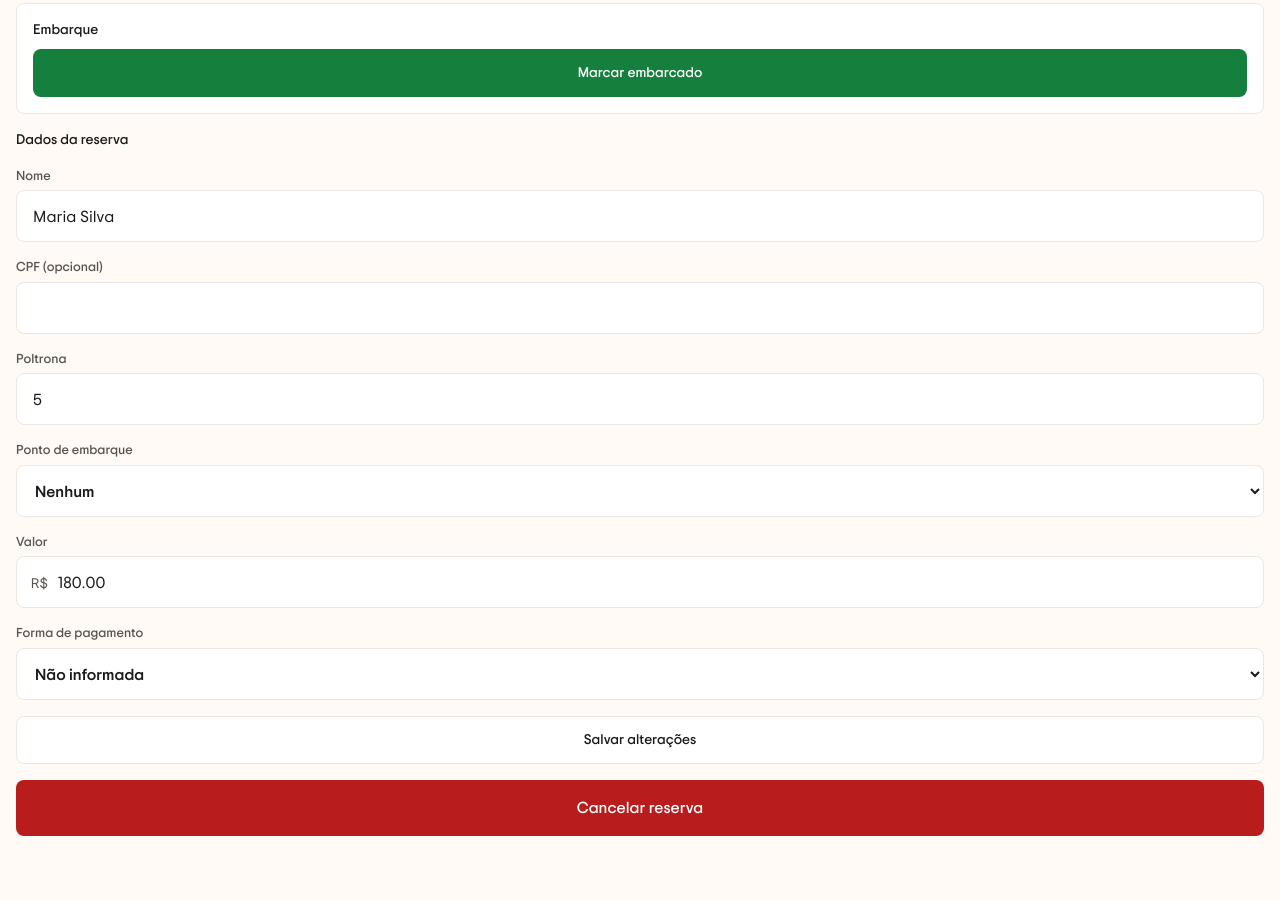
Test: ReservaDetalhePage › cancela reserva pendente sem gerar pendência de estorno
This screenshot has width=1280, height=900.
(page scrolled)
Click the button "Cancelar reserva": [640, 808] box [16, 780, 1264, 836]
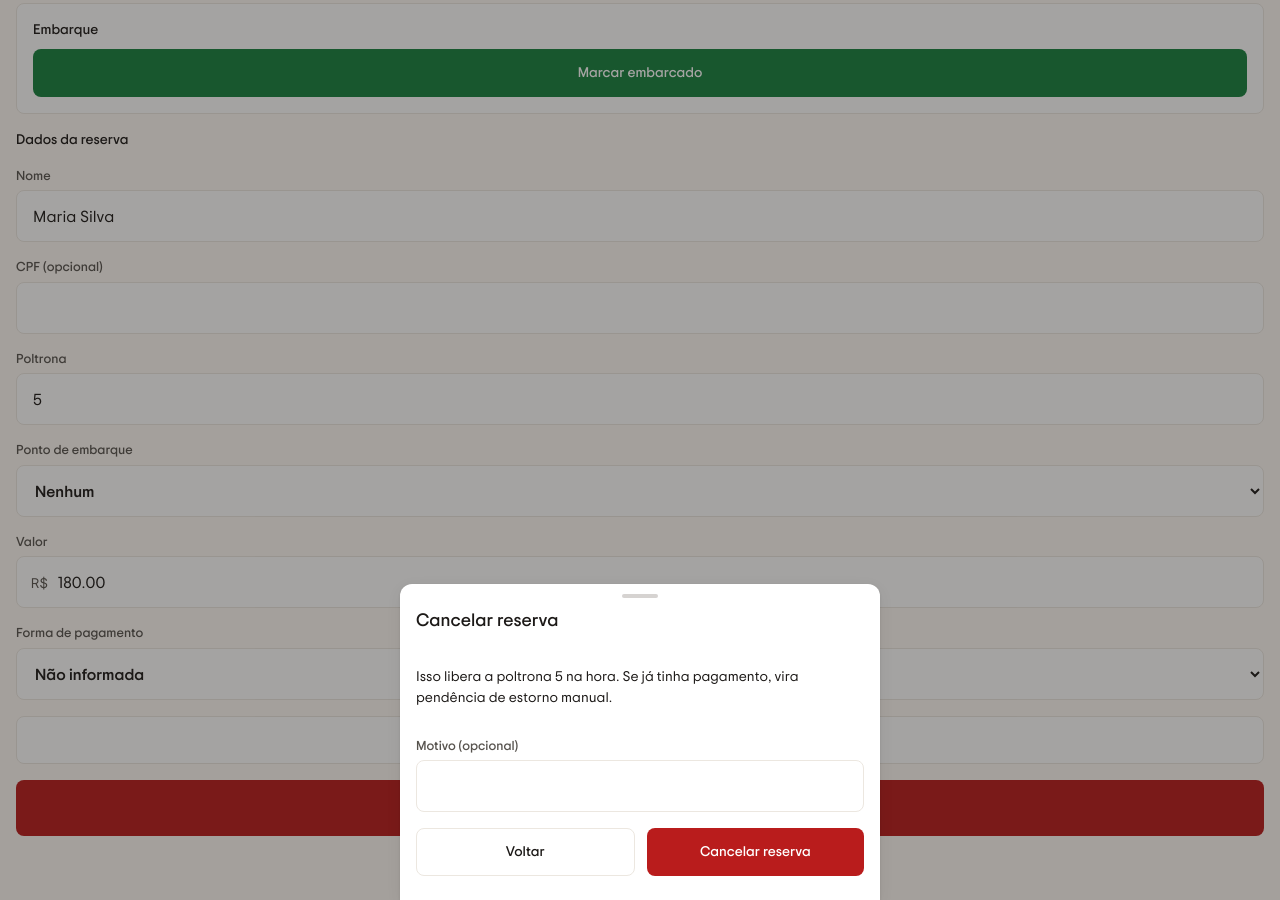
Click the button "Cancelar reserva" below "Motivo (opcional)": [755, 852] box [647, 828, 864, 876]
(page scrolled)
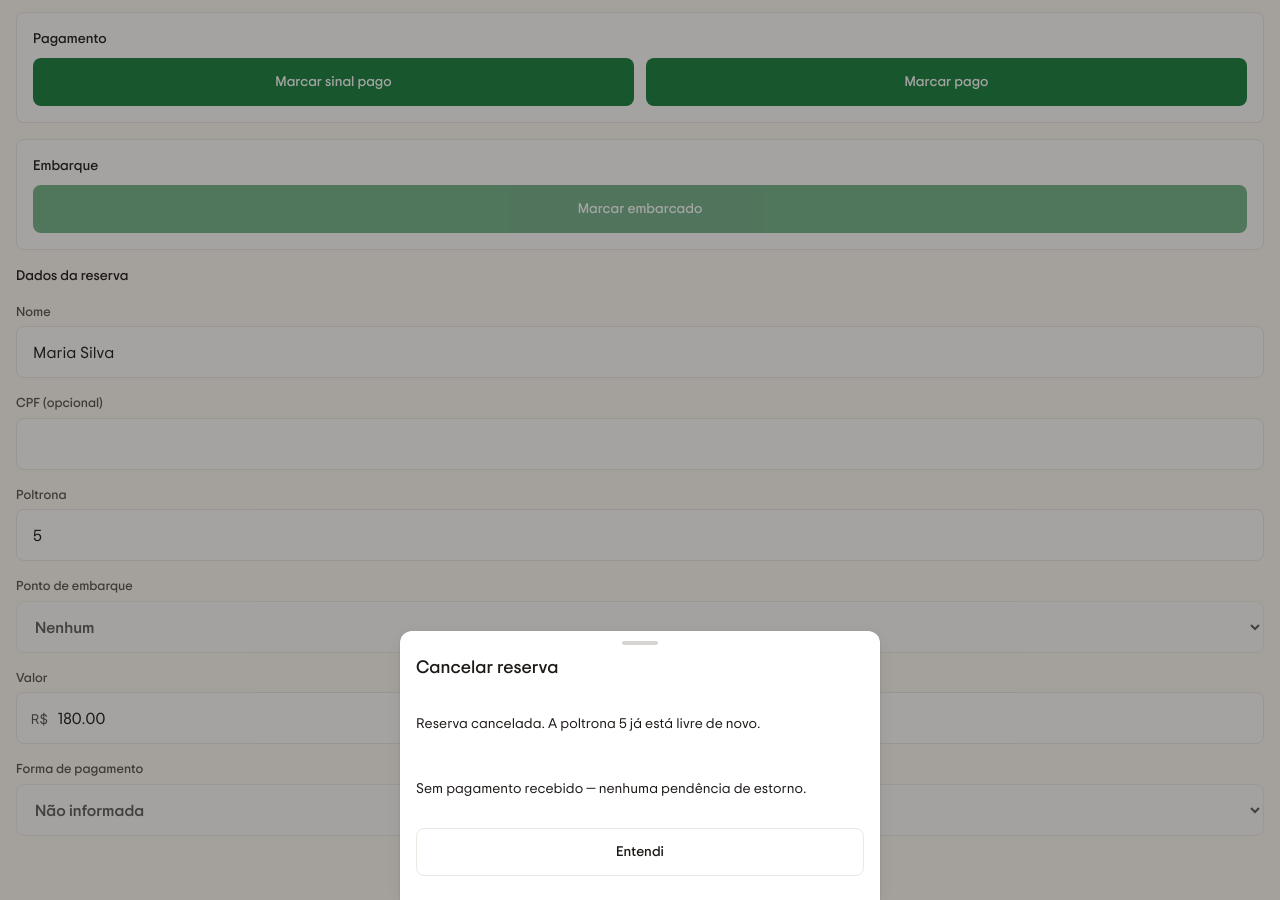
Result: the text "Sem pagamento recebido — nenhuma pendência de estorno." is shown at [416, 777, 864, 798]
